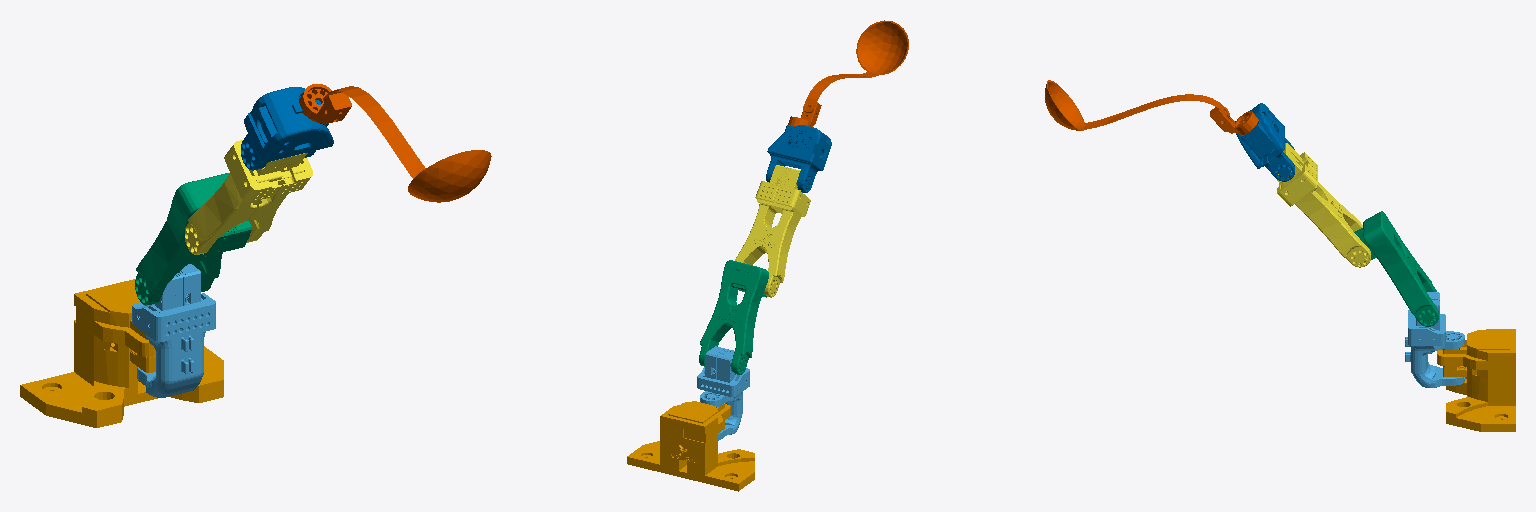
URDF robot description (generated_robot):
<?xml version="1.0"?>
<robot name="generated_robot">
  <link name="base_link">
    <inertial>
      <origin xyz="0.00086111 -0.1813544 0.00770474" rpy="0 0 0"/>
      <mass value="0.70093924"/>
      <inertia ixx="0.00116811" ixy="0" ixz="0" iyy="0.00260125" iyz="0.00001864" izz="0.00264283"/>
    </inertial>
    <visual name="part_001_visual_1">
      <origin xyz="0 0 0" rpy="1.57079633 0 0"/>
      <geometry><mesh filename="meshes/part_001_NAUO1.stl" scale="0.001 0.001 0.001"/></geometry>
    </visual>
    <collision name="part_001_collision_1">
      <origin xyz="0 0 0" rpy="1.57079633 0 0"/>
      <geometry><mesh filename="meshes/part_001_NAUO1.stl" scale="0.001 0.001 0.001"/></geometry>
    </collision>
    <visual name="part_006_visual_2">
      <origin xyz="0 0 0" rpy="1.57079633 0 0"/>
      <geometry><mesh filename="meshes/part_006_NAUO6.stl" scale="0.001 0.001 0.001"/></geometry>
    </visual>
    <collision name="part_006_collision_2">
      <origin xyz="0 0 0" rpy="1.57079633 0 0"/>
      <geometry><mesh filename="meshes/part_006_NAUO6.stl" scale="0.001 0.001 0.001"/></geometry>
    </collision>
    <visual name="part_007_visual_3">
      <origin xyz="0 0 0" rpy="1.57079633 0 0"/>
      <geometry><mesh filename="meshes/part_007_NAUO7.stl" scale="0.001 0.001 0.001"/></geometry>
    </visual>
    <collision name="part_007_collision_3">
      <origin xyz="0 0 0" rpy="1.57079633 0 0"/>
      <geometry><mesh filename="meshes/part_007_NAUO7.stl" scale="0.001 0.001 0.001"/></geometry>
    </collision>
  </link>
  <link name="shoulder_link">
    <inertial>
      <origin xyz="0.0007691 -0.02782758 0.02477651" rpy="0 0 0"/>
      <mass value="0.23040249"/>
      <inertia ixx="0.00035548" ixy="7e-8" ixz="-3.6e-7" iyy="0.00030371" iyz="0.00002044" izz="0.00019188"/>
    </inertial>
    <visual name="part_002_visual_1">
      <origin xyz="-0.00012963 0.21966414 -0.02325593" rpy="1.57079633 0 0"/>
      <geometry><mesh filename="meshes/part_002_NAUO2.stl" scale="0.001 0.001 0.001"/></geometry>
    </visual>
    <collision name="part_002_collision_1">
      <origin xyz="-0.00012963 0.21966414 -0.02325593" rpy="1.57079633 0 0"/>
      <geometry><mesh filename="meshes/part_002_NAUO2.stl" scale="0.001 0.001 0.001"/></geometry>
    </collision>
    <visual name="part_003_visual_2">
      <origin xyz="-0.00012963 0.21966414 -0.02325593" rpy="1.57079633 0 0"/>
      <geometry><mesh filename="meshes/part_003_NAUO3.stl" scale="0.001 0.001 0.001"/></geometry>
    </visual>
    <collision name="part_003_collision_2">
      <origin xyz="-0.00012963 0.21966414 -0.02325593" rpy="1.57079633 0 0"/>
      <geometry><mesh filename="meshes/part_003_NAUO3.stl" scale="0.001 0.001 0.001"/></geometry>
    </collision>
    <visual name="part_008_visual_3">
      <origin xyz="-0.00012963 0.21966414 -0.02325593" rpy="1.57079633 0 0"/>
      <geometry><mesh filename="meshes/part_008_NAUO8.stl" scale="0.001 0.001 0.001"/></geometry>
    </visual>
    <collision name="part_008_collision_3">
      <origin xyz="-0.00012963 0.21966414 -0.02325593" rpy="1.57079633 0 0"/>
      <geometry><mesh filename="meshes/part_008_NAUO8.stl" scale="0.001 0.001 0.001"/></geometry>
    </collision>
  </link>
  <link name="upper_arm_link">
    <inertial>
      <origin xyz="0.00003407 -0.04347462 0.06639222" rpy="0 0 0"/>
      <mass value="0.25426906"/>
      <inertia ixx="0.00078548" ixy="3.5e-7" ixz="-3.1e-7" iyy="0.00062631" iyz="0.00004659" izz="0.00040959"/>
    </inertial>
    <visual name="part_009_visual_1">
      <origin xyz="-0.00081111 0.25501445 -0.10461329" rpy="1.57079633 0 0"/>
      <geometry><mesh filename="meshes/part_009_NAUO9.stl" scale="0.001 0.001 0.001"/></geometry>
    </visual>
    <collision name="part_009_collision_1">
      <origin xyz="-0.00081111 0.25501445 -0.10461329" rpy="1.57079633 0 0"/>
      <geometry><mesh filename="meshes/part_009_NAUO9.stl" scale="0.001 0.001 0.001"/></geometry>
    </collision>
    <visual name="part_010_visual_2">
      <origin xyz="-0.00081111 0.25501445 -0.10461329" rpy="1.57079633 0 0"/>
      <geometry><mesh filename="meshes/part_010_NAUO10.stl" scale="0.001 0.001 0.001"/></geometry>
    </visual>
    <collision name="part_010_collision_2">
      <origin xyz="-0.00081111 0.25501445 -0.10461329" rpy="1.57079633 0 0"/>
      <geometry><mesh filename="meshes/part_010_NAUO10.stl" scale="0.001 0.001 0.001"/></geometry>
    </collision>
  </link>
  <link name="lower_arm_link">
    <inertial>
      <origin xyz="0.0000288 -0.05928201 0.06981532" rpy="0 0 0"/>
      <mass value="0.3005256"/>
      <inertia ixx="0.00106467" ixy="3.4e-7" ixz="-4.6e-7" iyy="0.00075906" iyz="0.00013298" izz="0.00059397"/>
    </inertial>
    <visual name="part_011_visual_1">
      <origin xyz="-0.0007611 0.35118196 -0.19880969" rpy="1.57079633 0 0"/>
      <geometry><mesh filename="meshes/part_011_NAUO11.stl" scale="0.001 0.001 0.001"/></geometry>
    </visual>
    <collision name="part_011_collision_1">
      <origin xyz="-0.0007611 0.35118196 -0.19880969" rpy="1.57079633 0 0"/>
      <geometry><mesh filename="meshes/part_011_NAUO11.stl" scale="0.001 0.001 0.001"/></geometry>
    </collision>
    <visual name="part_004_visual_2">
      <origin xyz="-0.0007611 0.35118196 -0.19880969" rpy="1.57079633 0 0"/>
      <geometry><mesh filename="meshes/part_004_NAUO4.stl" scale="0.001 0.001 0.001"/></geometry>
    </visual>
    <collision name="part_004_collision_2">
      <origin xyz="-0.0007611 0.35118196 -0.19880969" rpy="1.57079633 0 0"/>
      <geometry><mesh filename="meshes/part_004_NAUO4.stl" scale="0.001 0.001 0.001"/></geometry>
    </collision>
    <visual name="part_012_visual_3">
      <origin xyz="-0.0007611 0.35118196 -0.19880969" rpy="1.57079633 0 0"/>
      <geometry><mesh filename="meshes/part_012_NAUO12.stl" scale="0.001 0.001 0.001"/></geometry>
    </visual>
    <collision name="part_012_collision_3">
      <origin xyz="-0.0007611 0.35118196 -0.19880969" rpy="1.57079633 0 0"/>
      <geometry><mesh filename="meshes/part_012_NAUO12.stl" scale="0.001 0.001 0.001"/></geometry>
    </collision>
  </link>
  <link name="wrist_link">
    <inertial>
      <origin xyz="-0.0013334 -0.03352803 0.04012786" rpy="0 0 0"/>
      <mass value="0.37513573"/>
      <inertia ixx="0.00031511" ixy="-0.00000184" ixz="0.00000277" iyy="0.00030999" iyz="0.00000805" izz="0.000283"/>
    </inertial>
    <visual name="part_005_visual_1">
      <origin xyz="-0.00021981 0.45984725 -0.33273312" rpy="1.57079633 0 0"/>
      <geometry><mesh filename="meshes/part_005_NAUO5.stl" scale="0.001 0.001 0.001"/></geometry>
    </visual>
    <collision name="part_005_collision_1">
      <origin xyz="-0.00021981 0.45984725 -0.33273312" rpy="1.57079633 0 0"/>
      <geometry><mesh filename="meshes/part_005_NAUO5.stl" scale="0.001 0.001 0.001"/></geometry>
    </collision>
    <visual name="part_013_visual_2">
      <origin xyz="-0.00021981 0.45984725 -0.33273312" rpy="1.57079633 0 0"/>
      <geometry><mesh filename="meshes/part_013_NAUO13.stl" scale="0.001 0.001 0.001"/></geometry>
    </visual>
    <collision name="part_013_collision_2">
      <origin xyz="-0.00021981 0.45984725 -0.33273312" rpy="1.57079633 0 0"/>
      <geometry><mesh filename="meshes/part_013_NAUO13.stl" scale="0.001 0.001 0.001"/></geometry>
    </collision>
  </link>
  <link name="grisp_link">
    <inertial>
      <origin xyz="0 -0.08860376 0.01764246" rpy="0 0 0"/>
      <mass value="0.04801739"/>
      <inertia ixx="0.00040537" ixy="0" ixz="0" iyy="0.00003848" iyz="0.00003947" izz="0.00040395"/>
    </inertial>
    <visual name="part_014_visual_1">
      <origin xyz="-0.01346111 0.51406831 -0.39912669" rpy="1.57079633 0 0"/>
      <geometry><mesh filename="meshes/part_014_NAUO14.stl" scale="0.001 0.001 0.001"/></geometry>
    </visual>
    <collision name="part_014_collision_1">
      <origin xyz="-0.01346111 0.51406831 -0.39912669" rpy="1.57079633 0 0"/>
      <geometry><mesh filename="meshes/part_014_NAUO14.stl" scale="0.001 0.001 0.001"/></geometry>
    </collision>
    <visual name="part_015_visual_2">
      <origin xyz="-0.01346111 0.51406831 -0.39912669" rpy="1.57079633 0 0"/>
      <geometry><mesh filename="meshes/part_015_NAUO15.stl" scale="0.001 0.001 0.001"/></geometry>
    </visual>
    <collision name="part_015_collision_2">
      <origin xyz="-0.01346111 0.51406831 -0.39912669" rpy="1.57079633 0 0"/>
      <geometry><mesh filename="meshes/part_015_NAUO15.stl" scale="0.001 0.001 0.001"/></geometry>
    </collision>
  </link>
  <joint name="shoulder_pan" type="revolute">
    <parent link="base_link"/>
    <child link="shoulder_link"/>
    <origin xyz="0.00012963 -0.21966414 0.02325593" rpy="0 0 0"/>
    <axis xyz="-0.02452301 0.01634245 -0.99956568"/>
    <limit lower="-1.92" upper="1.92" effort="10" velocity="5"/>
  </joint>
  <joint name="shoulder_lift" type="revolute">
    <parent link="shoulder_link"/>
    <child link="upper_arm_link"/>
    <origin xyz="0.00068148 -0.03535031 0.08135736" rpy="0 0 0"/>
    <axis xyz="0.999758 -0.01398021 0.01698535"/>
    <limit lower="-2.269" upper="1.047" effort="10" velocity="5"/>
  </joint>
  <joint name="elbow_flex" type="revolute">
    <parent link="upper_arm_link"/>
    <child link="lower_arm_link"/>
    <origin xyz="-0.00005 -0.09616751 0.0941964" rpy="0 0 0"/>
    <axis xyz="0.9999943 0.00206578 0.00266889"/>
    <limit lower="-0.175" upper="2.88" effort="10" velocity="5"/>
  </joint>
  <joint name="wrist_fliex" type="revolute">
    <parent link="lower_arm_link"/>
    <child link="wrist_link"/>
    <origin xyz="-0.0005413 -0.10866529 0.13392342" rpy="0 0 0"/>
    <axis xyz="0.99999207 0.00129384 0.00376768"/>
    <limit lower="-1.66" upper="1.66" effort="10" velocity="5"/>
  </joint>
  <joint name="wrist_roll" type="revolute">
    <parent link="wrist_link"/>
    <child link="grisp_link"/>
    <origin xyz="0.0132413 -0.05422106 0.06639357" rpy="0 0 0"/>
    <axis xyz="0 -0.62935133 0.77712091"/>
    <limit lower="-2.269" upper="2.269" effort="10" velocity="5"/>
  </joint>
</robot>

--- Facts derived from the render (not from the file) ---
Views: 3 orthographic renders of the robot side by side, from view 1: azimuth 30°, elevation 25°; view 2: azimuth 150°, elevation 25°; view 3: azimuth 270°, elevation 25°.
Model generated_robot with 6 links and 5 joints (5 revolute), rooted at base_link, posed every joint at zero.
Visible links, largest first — view 1: base_link, shoulder_link, lower_arm_link, grisp_link, upper_arm_link, wrist_link; view 2: base_link, lower_arm_link, upper_arm_link, grisp_link, wrist_link, shoulder_link; view 3: base_link, lower_arm_link, upper_arm_link, grisp_link, shoulder_link, wrist_link.
Boxes of the visible links, <box> form: base_link: <box>20,279,223,427</box>; shoulder_link: <box>132,264,215,397</box>; lower_arm_link: <box>185,140,312,254</box>; grisp_link: <box>299,84,491,202</box>; upper_arm_link: <box>135,173,251,305</box>; wrist_link: <box>241,87,333,170</box>; base_link: <box>627,401,754,491</box>; lower_arm_link: <box>735,165,810,297</box>; upper_arm_link: <box>699,260,768,374</box>; grisp_link: <box>788,20,908,126</box>; wrist_link: <box>766,125,831,192</box>; shoulder_link: <box>697,346,749,440</box>; base_link: <box>1437,329,1515,431</box>; lower_arm_link: <box>1277,143,1370,267</box>; upper_arm_link: <box>1354,211,1438,326</box>; grisp_link: <box>1045,80,1258,135</box>; shoulder_link: <box>1405,292,1464,387</box>; wrist_link: <box>1235,103,1294,181</box>.
Bounding box of the posed robot: 0.2 × 0.6732 × 0.5085 m (x, y, z).
Meshes: 15 distinct files referenced, 15 mesh visuals loaded (15 binary STL).
